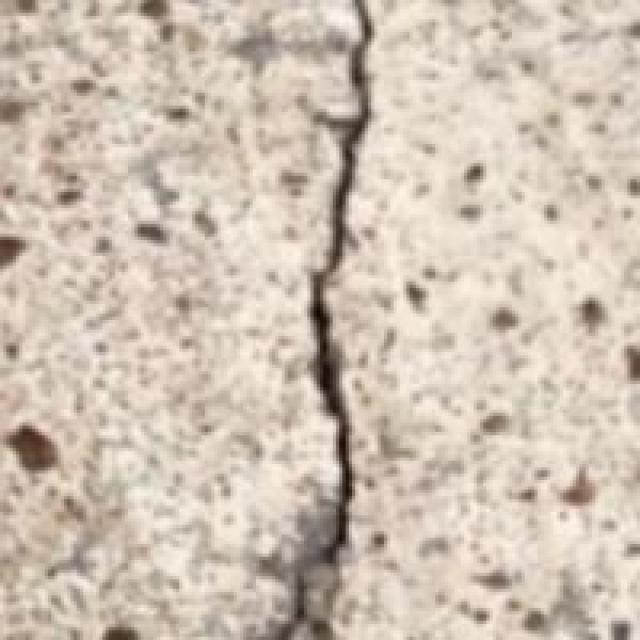crack: (253, 0, 451, 637)
